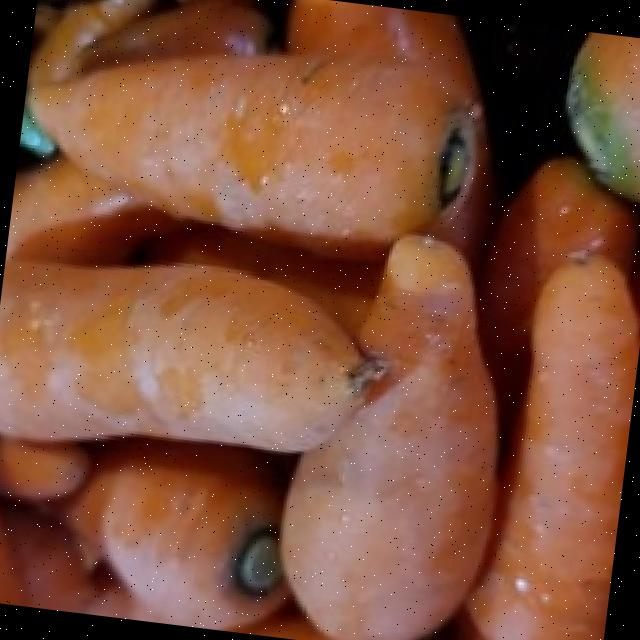carrot: (0, 0, 490, 640), (467, 159, 639, 640), (66, 436, 287, 624)
